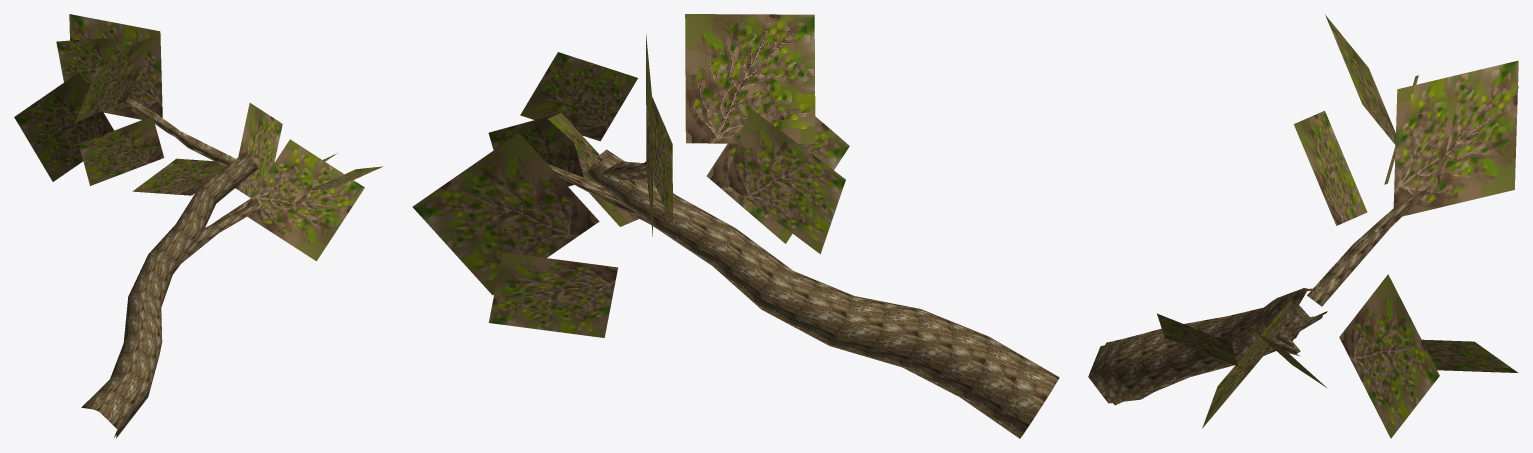
Rendered from far.glb.
The picture shows the model from 3 angles, left to right: view 1: azimuth 30°, elevation 25°; view 2: azimuth 150°, elevation 25°; view 3: azimuth 270°, elevation 25°; orthographic projection. The views are drawn at different scales.
Parts seen in each view (by area): view 1: lod1, lod2; view 2: lod1, lod2; view 3: lod1, lod2.
Boxes of the visible parts, bbox=[...] form: lod1: bbox=[14, 35, 383, 438]; lod2: bbox=[56, 14, 364, 437]; lod1: bbox=[412, 14, 1059, 438]; lod2: bbox=[488, 34, 1059, 435]; lod1: bbox=[1088, 14, 1517, 438]; lod2: bbox=[1105, 60, 1518, 428].
Size of the model in its own units: 40.62 by 38.74 by 34.77.
Materials: 2 (2 with a texture image).
